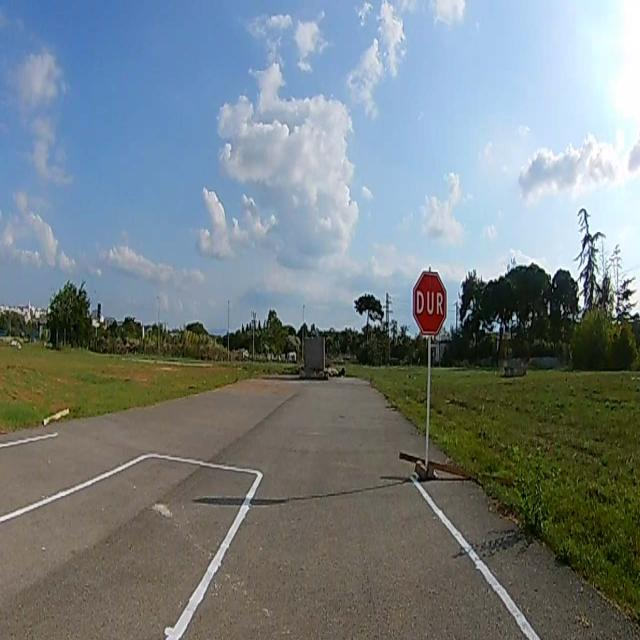dur: (413, 273, 446, 332)
